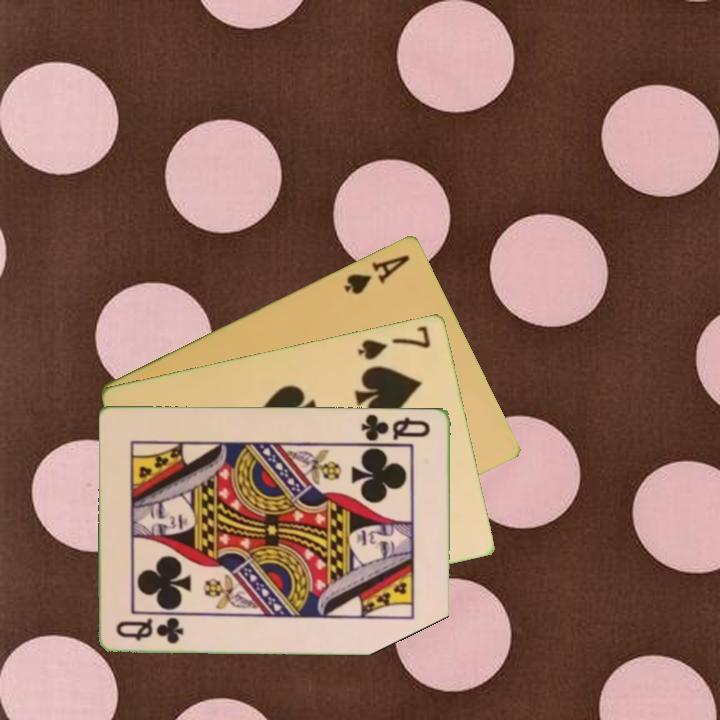7s: (354, 321, 434, 363)
As: (340, 250, 413, 297)
Qc: (358, 410, 433, 444), (113, 614, 187, 647)
